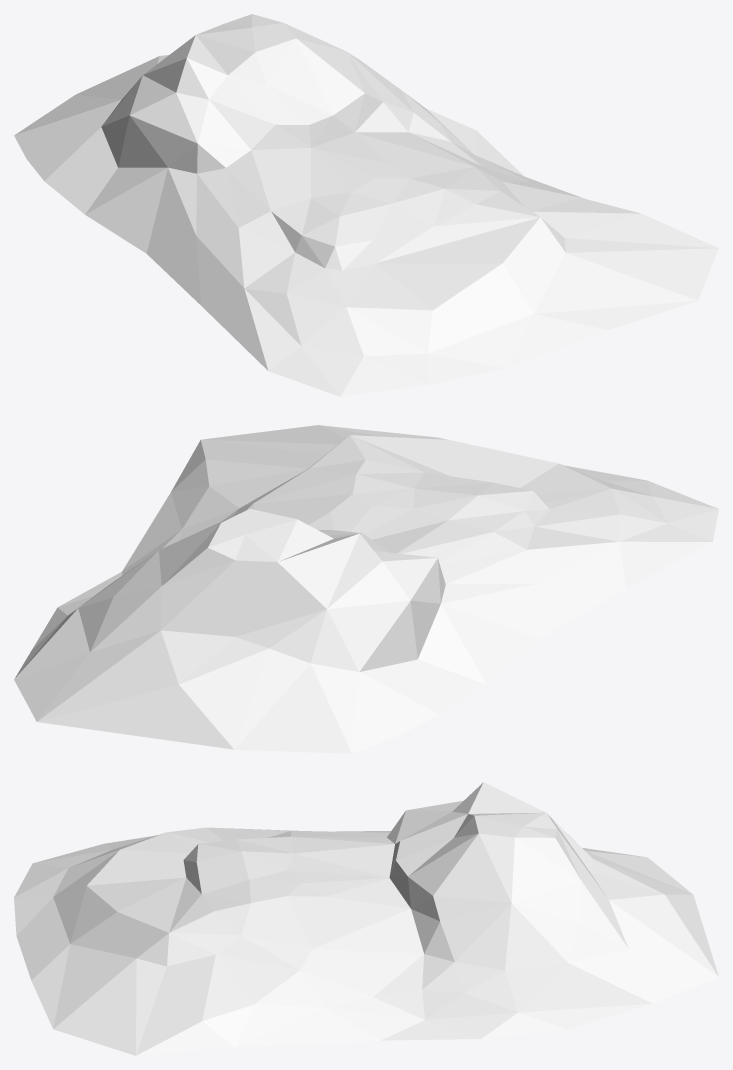
File: snow_sand_001.fbx
The picture shows the model from 3 angles, top to bottom: view 1: azimuth 30°, elevation 25°; view 2: azimuth 150°, elevation 25°; view 3: azimuth 270°, elevation 25°; orthographic projection. The views are drawn at different scales.
Visible parts, largest first — view 1: snow_sand_001; view 2: snow_sand_001; view 3: snow_sand_001.
Boxes of the visible parts, left/top/right/bottom form: snow_sand_001: left=14, top=14, right=718, bottom=396; snow_sand_001: left=14, top=425, right=718, bottom=753; snow_sand_001: left=14, top=782, right=718, bottom=1055.
Size of the model in its own units: 3525 by 5042 by 1051.
